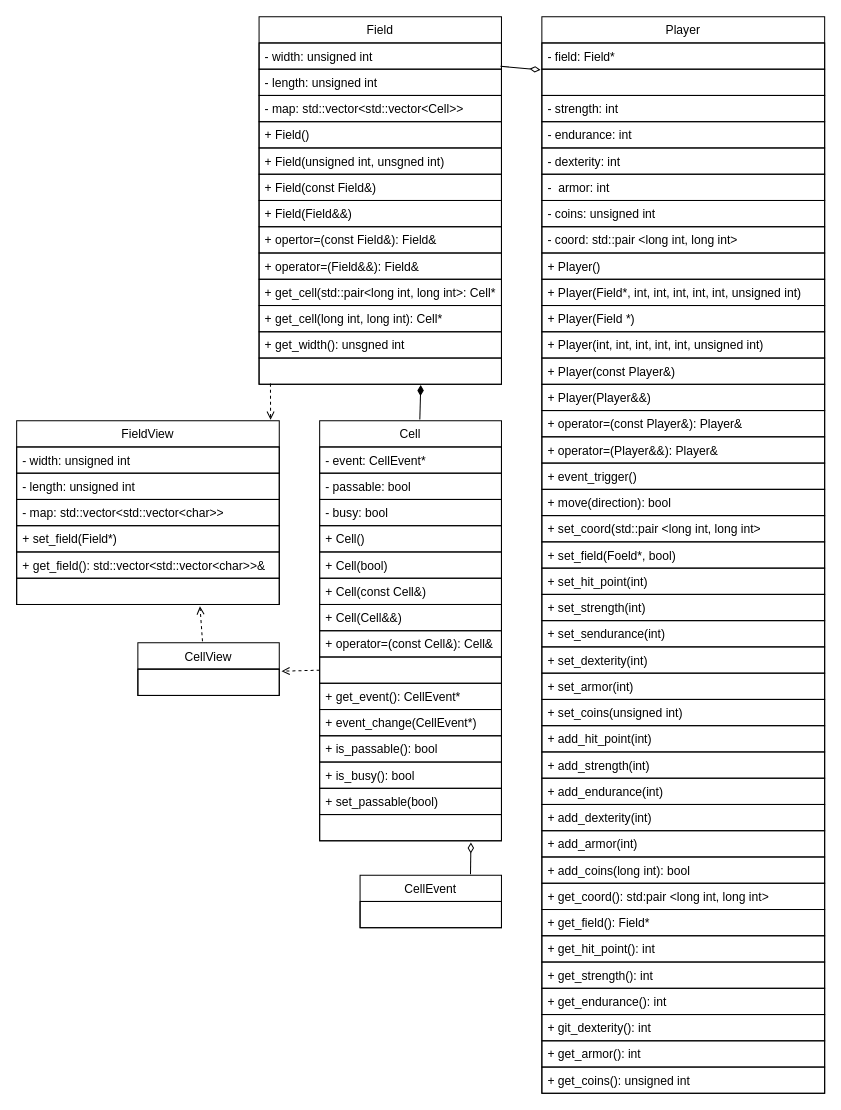
Some shapes in this 841 by 1110 pixel diagram are drawn without their labels. Here are the shapes that lost their labels. From the top down, the centre of each, then its label:
point 683,81: - hit_point: int
point 379,370: + get_length(): unsigned int
point 147,590: + print()
point 208,681: + cell_view(Cell*): char
point 410,669: + operator=(Cell&&): Cell&
point 410,827: + set_busy(bool)
point 430,914: + trigger()
